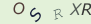O: (13, 2, 25, 15)
R: (53, 8, 65, 21), (82, 3, 91, 16)
S: (28, 6, 42, 23)
X: (70, 2, 82, 16)
